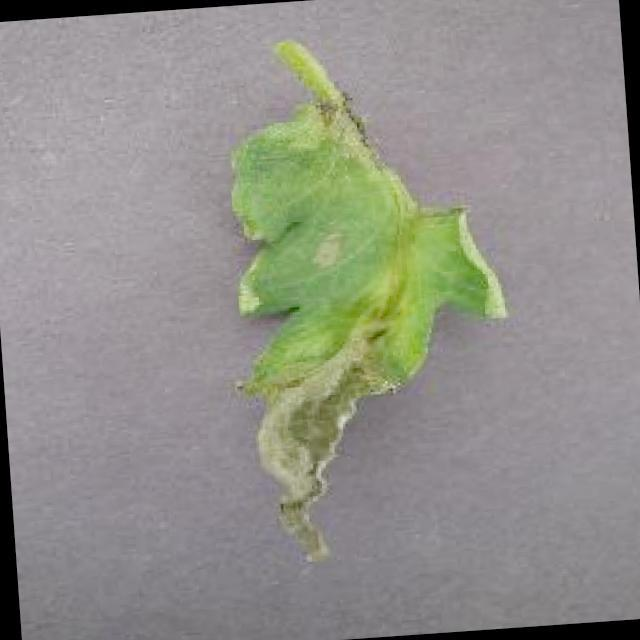Tomato late blight leaf: (216, 85, 532, 565)
